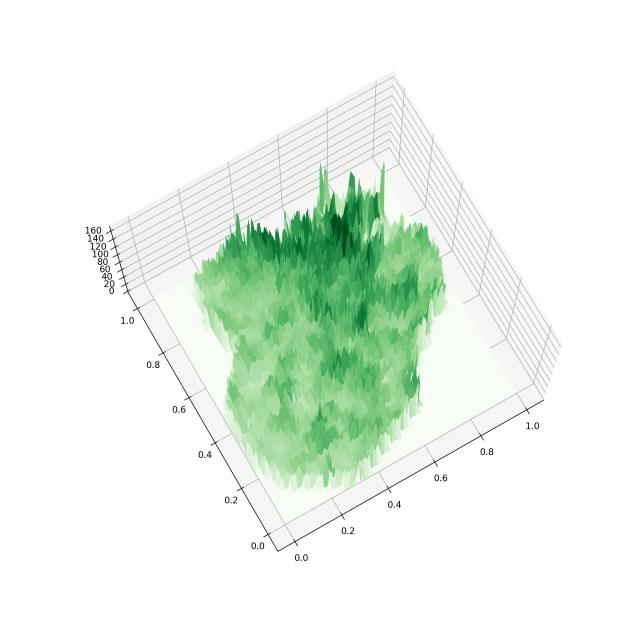spruce: (70, 41, 598, 584)
